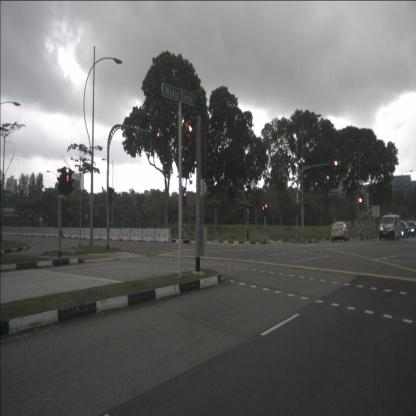barrier: (155, 228, 172, 243), (141, 228, 156, 242), (119, 228, 132, 241), (130, 228, 143, 241), (100, 228, 112, 240), (110, 228, 121, 241), (91, 228, 102, 240), (69, 228, 78, 238), (84, 228, 92, 239), (77, 228, 85, 239), (62, 228, 70, 237), (44, 227, 51, 237), (56, 228, 63, 237), (50, 228, 57, 237), (38, 227, 44, 237), (28, 227, 34, 236), (33, 227, 39, 236), (8, 226, 14, 235), (13, 226, 18, 236), (18, 226, 23, 236), (23, 227, 28, 236), (0, 226, 5, 235), (5, 226, 9, 235)
